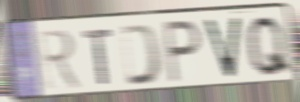D: (118, 22, 164, 88)
P: (162, 18, 203, 86)
Q: (244, 13, 296, 79)
R: (34, 28, 85, 92)
T: (81, 27, 115, 87)
V: (201, 15, 244, 82)
